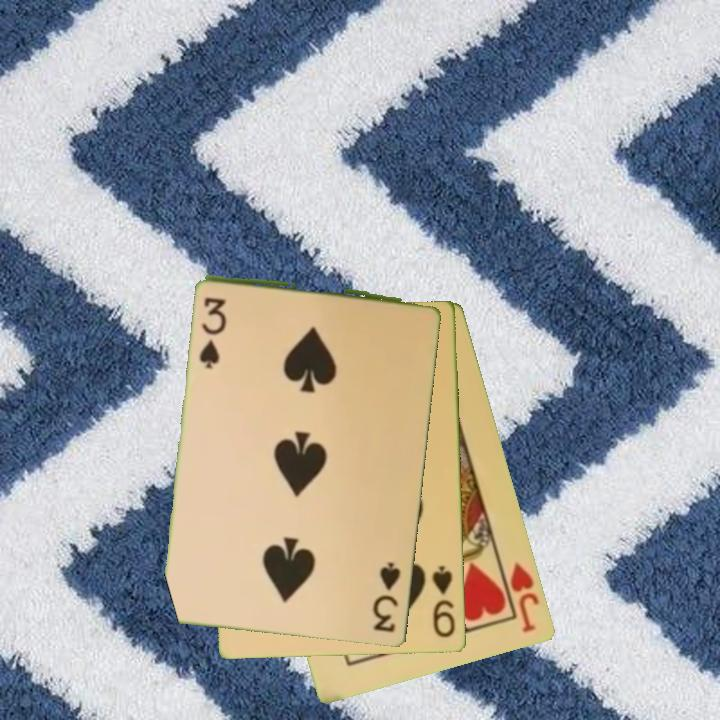3s: (370, 559, 404, 636), (196, 294, 230, 369)
9s: (429, 563, 458, 641)
Jh: (507, 559, 543, 636)
